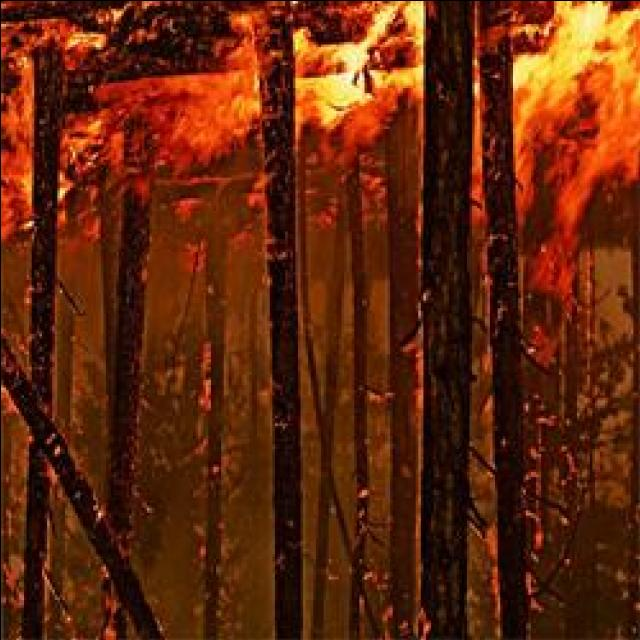fire: (553, 0, 640, 69), (595, 49, 640, 171), (514, 54, 576, 116), (0, 82, 31, 202), (227, 46, 261, 122), (324, 68, 364, 110)
